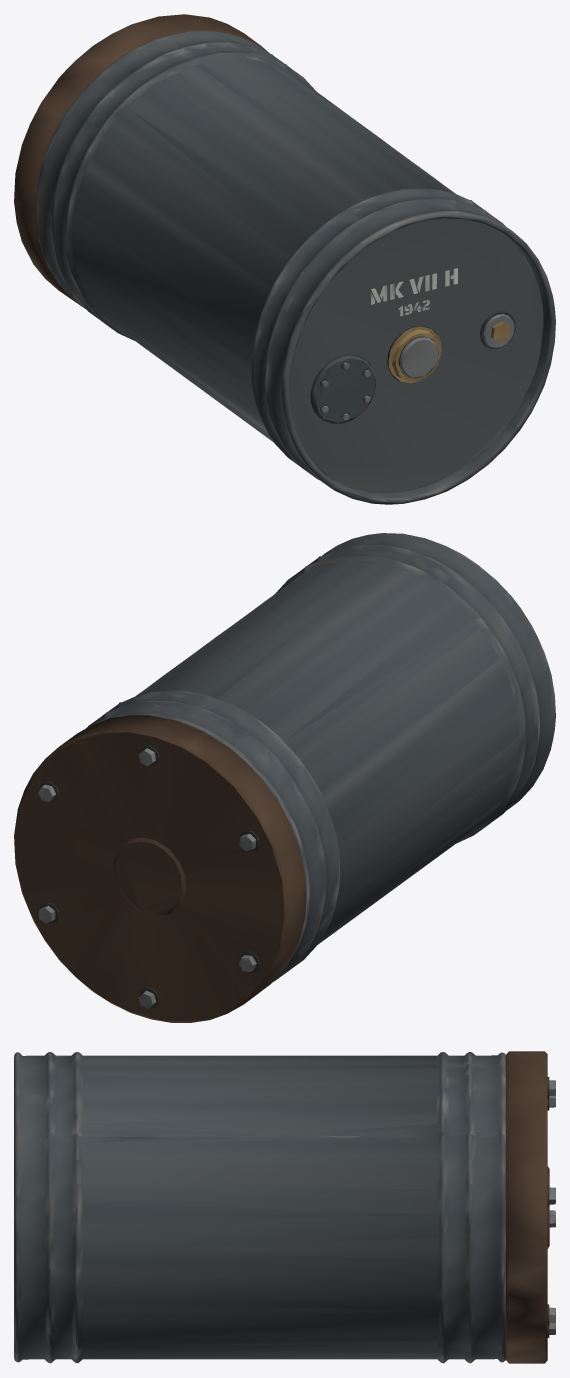
File: mk7-heavy.glb
3 views of the same model, one above another, from view 1: azimuth 30°, elevation 25°; view 2: azimuth 150°, elevation 25°; view 3: azimuth 270°, elevation 25° (orthographic).
Visible parts, largest first — view 1: drum_body, end_plate_pistol, cast_iron_weight, access_cover, hydrostatic_pistol, filling_plug, Lot stencil; view 2: drum_body, cast_iron_weight, weight_hex_bolts; view 3: drum_body, cast_iron_weight, weight_hex_bolts.
Part boxes in pixels (x1=…): drum_body: x1=36, y1=30, x2=555, y2=504; end_plate_pistol: x1=290, y1=218, x2=543, y2=493; cast_iron_weight: x1=14, y1=14, x2=269, y2=308; access_cover: x1=310, y1=354, x2=375, y2=423; hydrostatic_pistol: x1=387, y1=325, x2=441, y2=383; filling_plug: x1=480, y1=311, x2=515, y2=349; Lot stencil: x1=371, y1=268, x2=457, y2=304; drum_body: x1=87, y1=533, x2=555, y2=981; cast_iron_weight: x1=14, y1=715, x2=306, y2=1022; weight_hex_bolts: x1=38, y1=745, x2=259, y2=1008; drum_body: x1=14, y1=1052, x2=505, y2=1363; cast_iron_weight: x1=506, y1=1051, x2=549, y2=1363; weight_hex_bolts: x1=547, y1=1077, x2=555, y2=1337.
Size of the model in its own units: 0.4086 by 0.4087 by 0.71.
